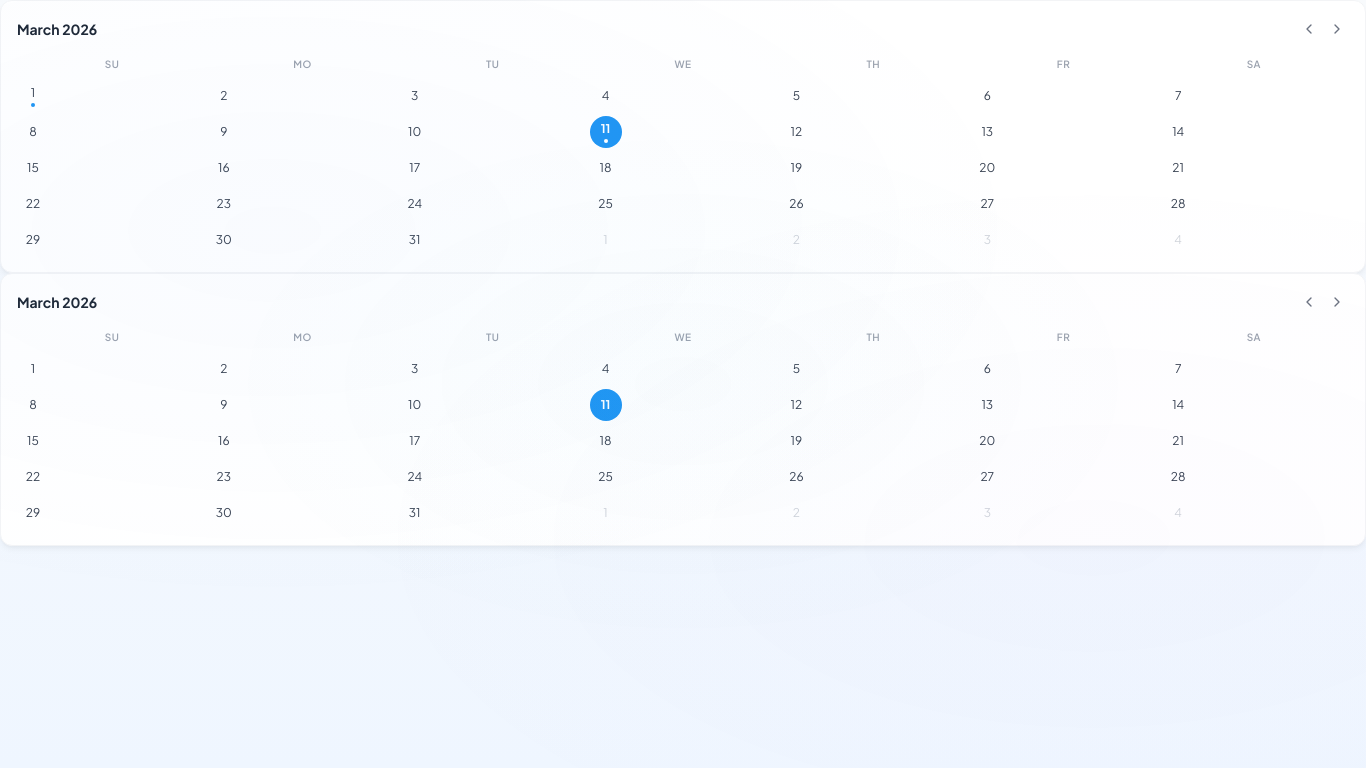
MiniCalendar Component › displays "No appointments" for empty days
The image size is (1366, 768).
Click the 1st element showing "15" at [33, 168], box [27,160,39,175]
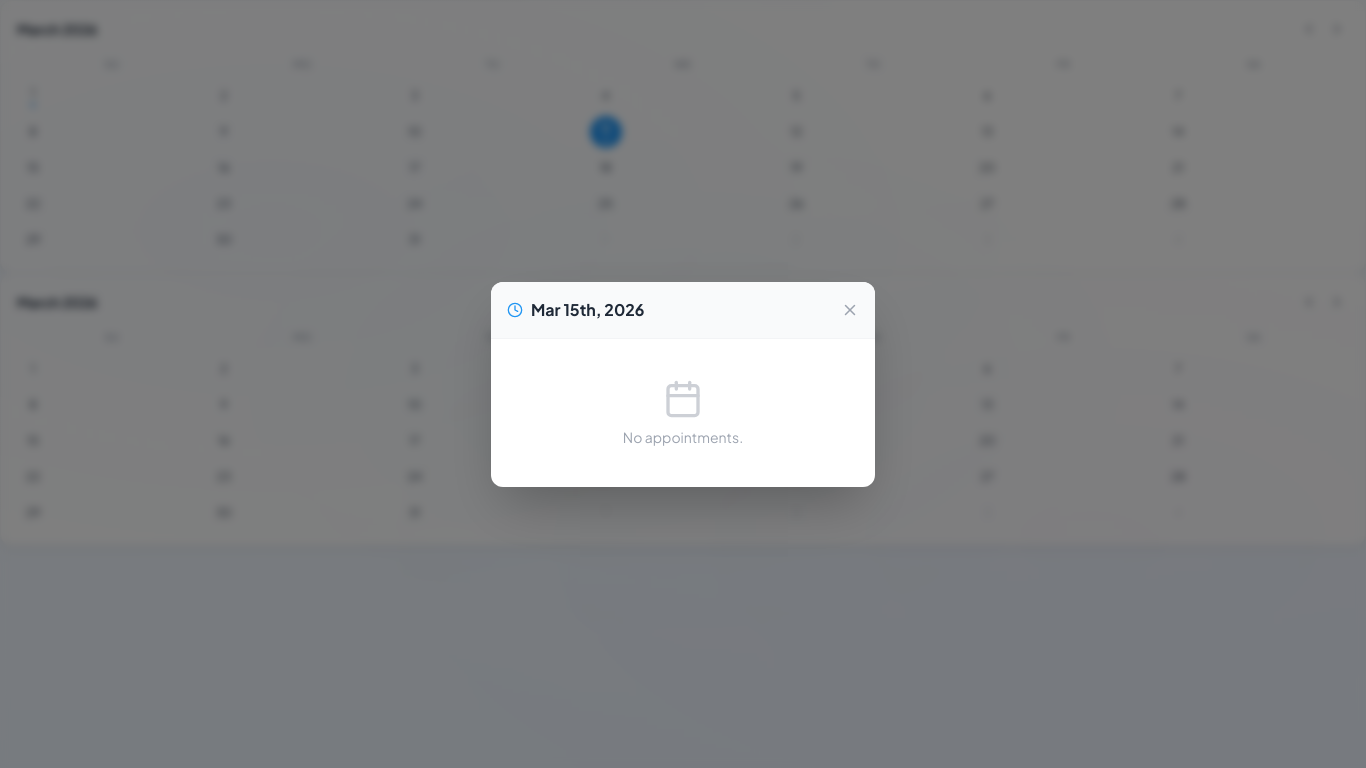
Expected: the text "No appointments." is shown, [623,428,743,446]
